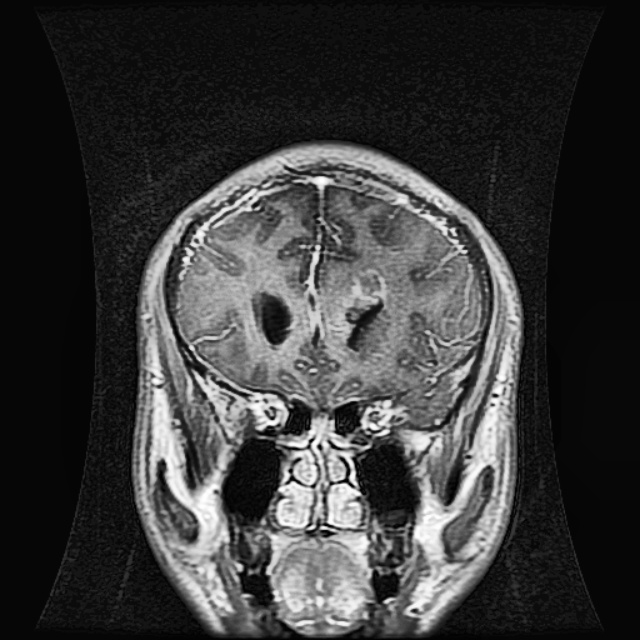Meningioma: (334, 269, 392, 353)
